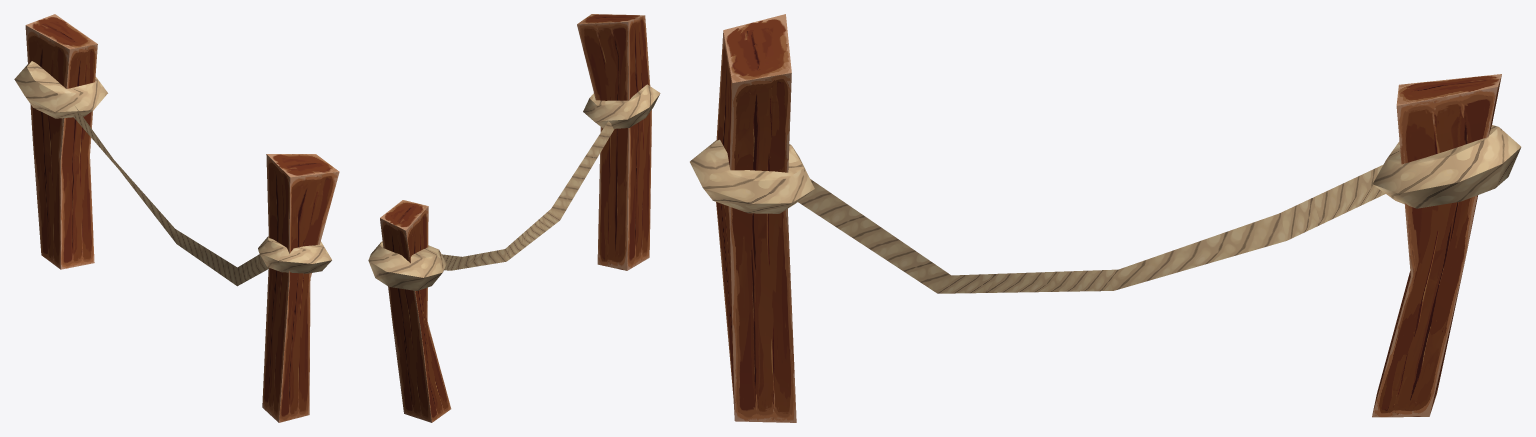
File: SM_PROP_railing_v03_01.fbx
3 renders of one model, left to right at view 1: azimuth 30°, elevation 25°; view 2: azimuth 150°, elevation 25°; view 3: azimuth 270°, elevation 25°, orthographic. The views are drawn at different scales.
Visible parts, largest first — view 1: SM_PROP_railing_v03_01; view 2: SM_PROP_railing_v03_01; view 3: SM_PROP_railing_v03_01.
Part boxes in pixels (x1,y1,x2,y2): SM_PROP_railing_v03_01: (14, 14, 339, 422); SM_PROP_railing_v03_01: (368, 14, 660, 422); SM_PROP_railing_v03_01: (690, 14, 1521, 422).
Size of the model in its own units: 34.1 by 103 by 201.
